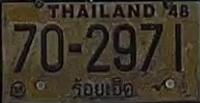0: (40, 24, 64, 72)
1: (174, 23, 182, 72)
2: (86, 23, 109, 72)
7: (140, 22, 163, 72), (14, 23, 36, 73)
9: (112, 23, 136, 71)
RET: (70, 76, 137, 100)
